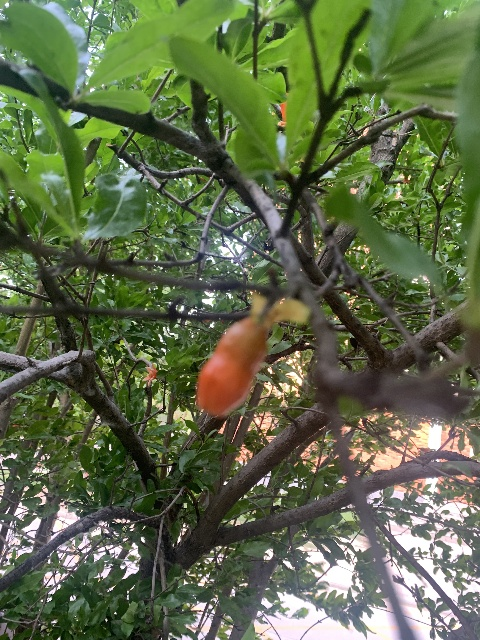bud: (196, 317, 267, 416)
flower: (141, 363, 157, 386)
